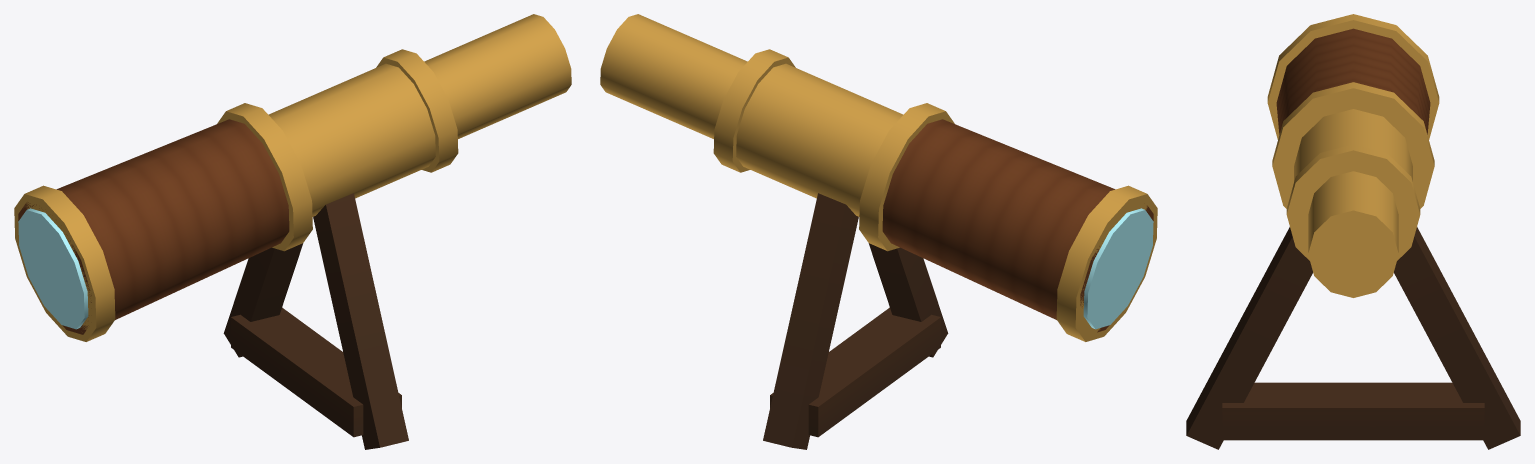
File: Decor_Spyglass.fbx
3 views of the same model, side by side, from view 1: azimuth 30°, elevation 25°; view 2: azimuth 150°, elevation 25°; view 3: azimuth 270°, elevation 25° (orthographic). The views are drawn at different scales.
Visible parts, largest first — view 1: Decor_Spyglass; view 2: Decor_Spyglass; view 3: Decor_Spyglass.
Boxes of the visible parts, bbox=[...] form: Decor_Spyglass: bbox=[14, 14, 571, 449]; Decor_Spyglass: bbox=[600, 14, 1157, 449]; Decor_Spyglass: bbox=[1186, 14, 1520, 449].
Bounding box in the file's own units: 0.5327 × 0.3241 × 0.2801.
Materials: 1 (1 with a texture image).
